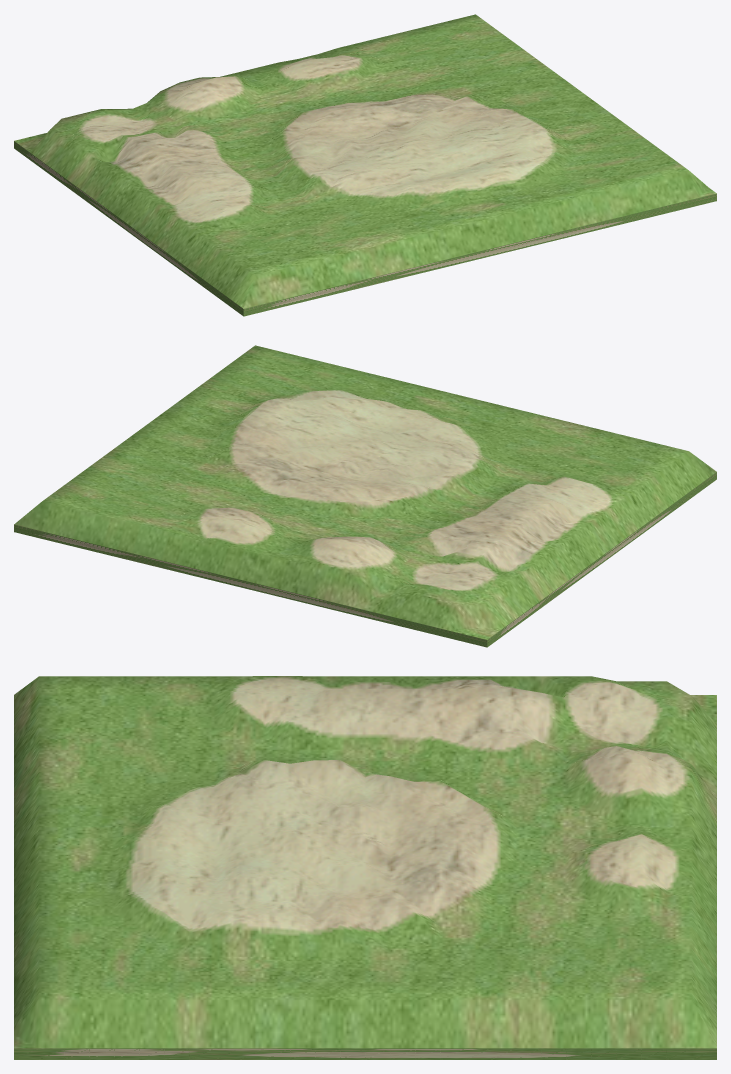
The model's file is terrain.FBX.
The picture shows the model from 3 angles, top to bottom: view 1: azimuth 30°, elevation 25°; view 2: azimuth 150°, elevation 25°; view 3: azimuth 270°, elevation 25°; orthographic projection. The views are drawn at different scales.
Visible parts, largest first — view 1: Box01; view 2: Box01; view 3: Box01.
Boxes of the visible parts, box(x1,y1,x2,y2) form: Box01: box(14, 14, 716, 316); Box01: box(14, 345, 716, 647); Box01: box(14, 676, 716, 1059).
Size of the model in its own units: 12.72 by 1.47 by 10.7.
Materials: 1 (1 with a texture image).
